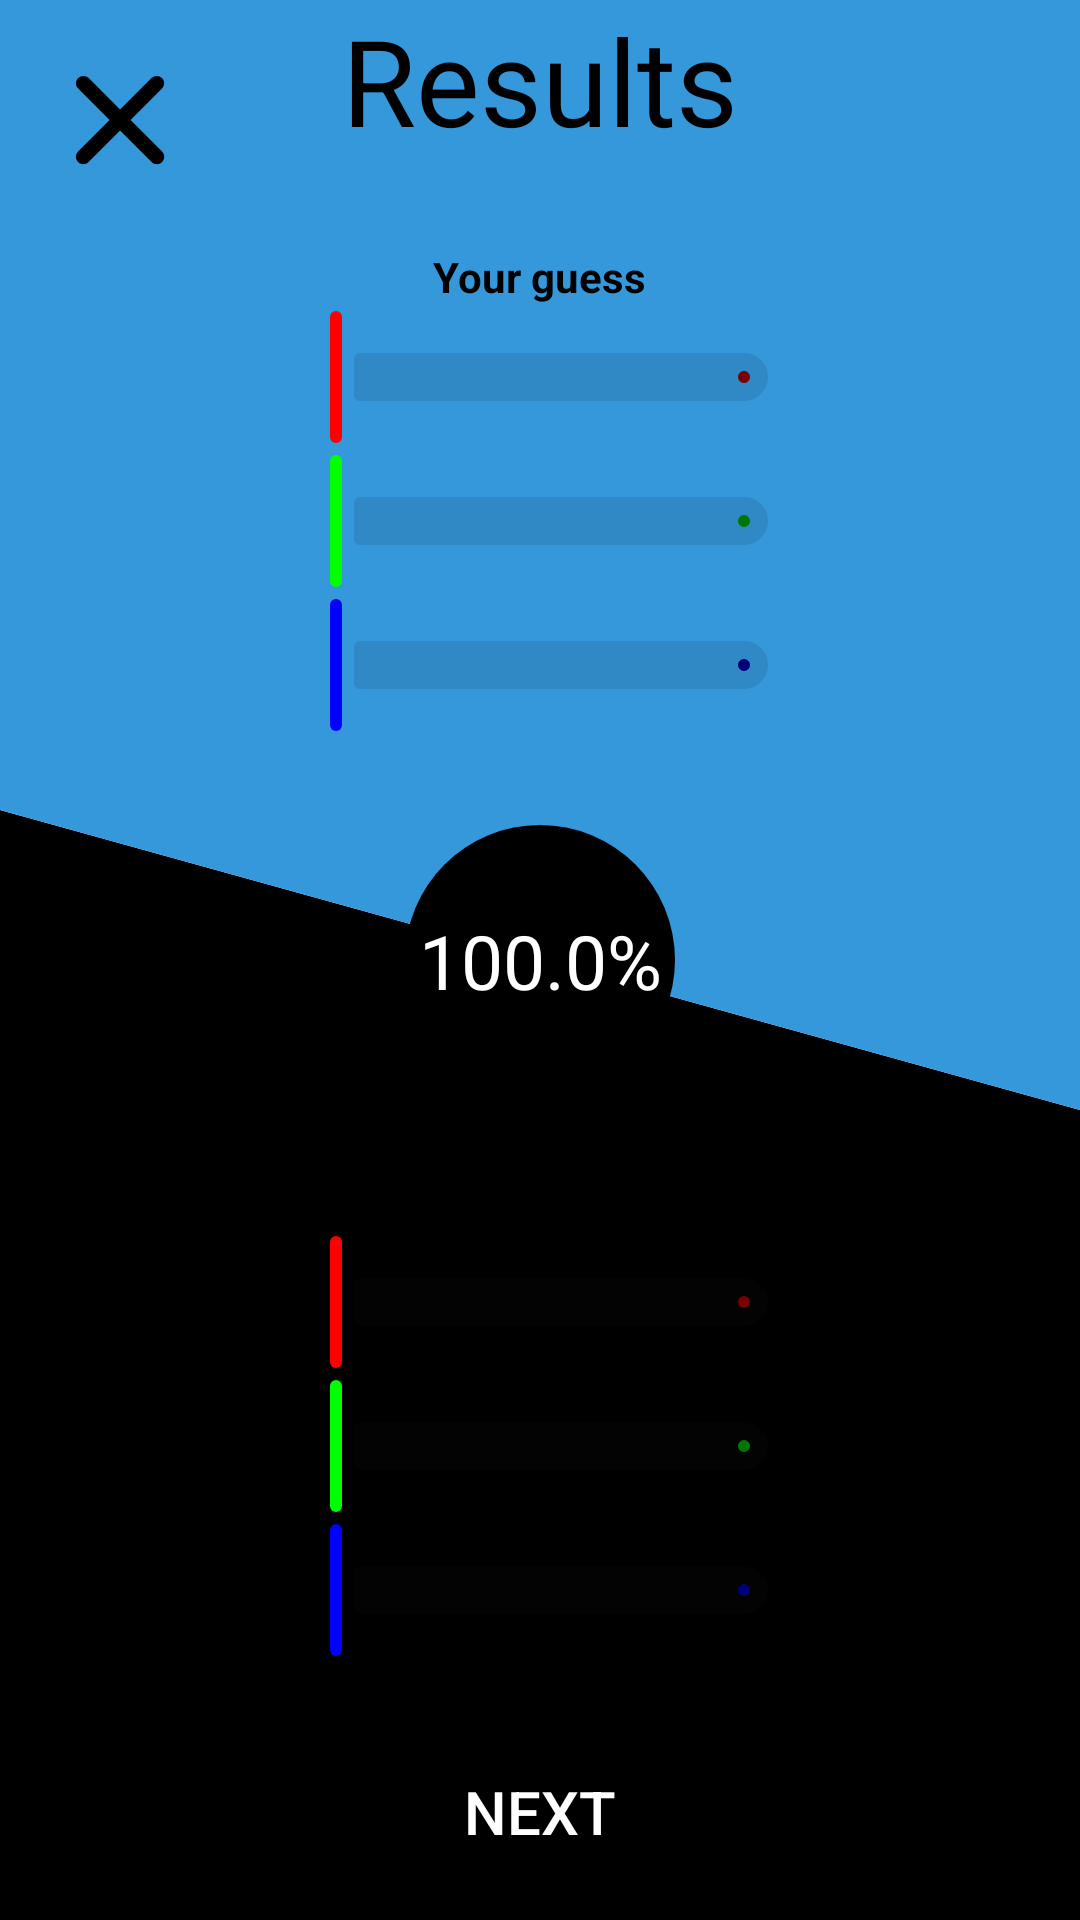

Icon bounding boxes for this 1080w x 1920h phone screenshot, format (x1, y1, x2, y2):
cross: (76, 76, 165, 165)
